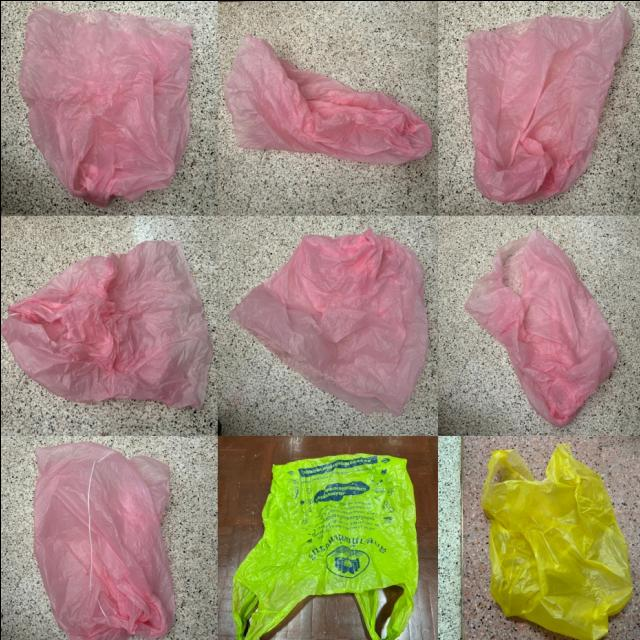plastik: (229, 228, 428, 414), (0, 240, 212, 408), (231, 453, 417, 640), (18, 5, 191, 205), (461, 4, 631, 202), (464, 228, 616, 425), (480, 442, 631, 640), (33, 441, 173, 640), (224, 33, 431, 163)
